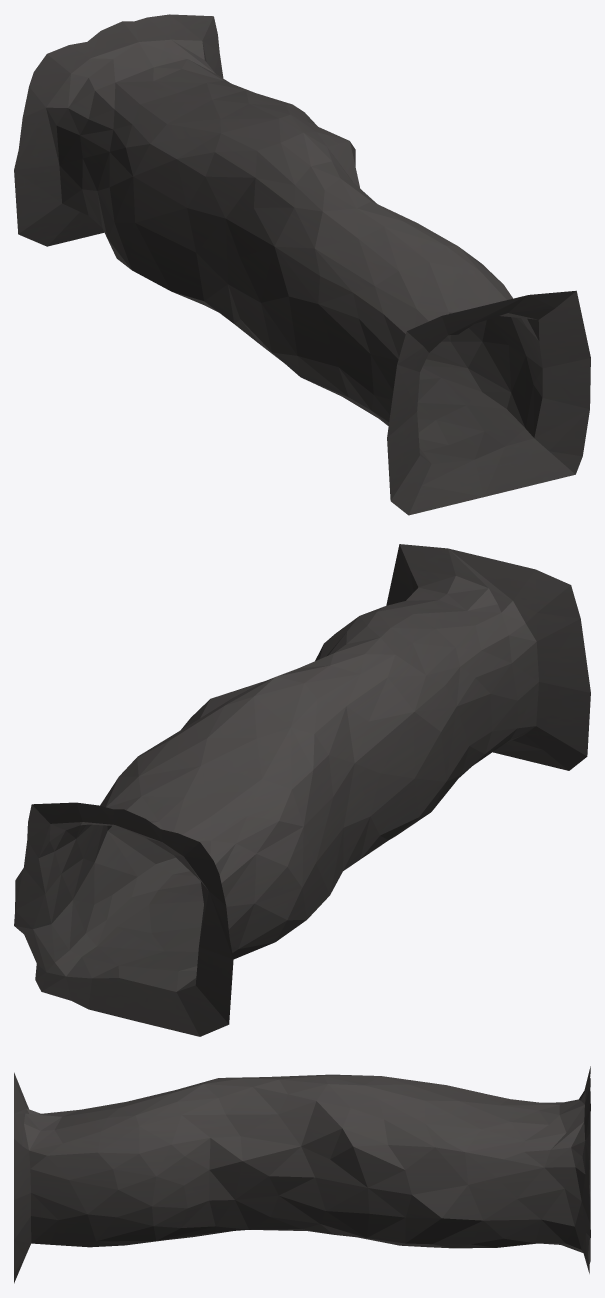
Rendered from ZLP_Cave_B_1.FBX.
3 renders of one model, top to bottom at view 1: azimuth 30°, elevation 25°; view 2: azimuth 150°, elevation 25°; view 3: azimuth 270°, elevation 25°, orthographic. The views are drawn at different scales.
Parts seen in each view (by area): view 1: ZLP_Cave_B_1; view 2: ZLP_Cave_B_1; view 3: ZLP_Cave_B_1.
Boxes of the visible parts, x1,y1,x2,y2 form: ZLP_Cave_B_1: (14,14,590,515); ZLP_Cave_B_1: (14,544,590,1036); ZLP_Cave_B_1: (14,1066,590,1283).
Size of the model in its own units: 667 by 629 by 1923.
